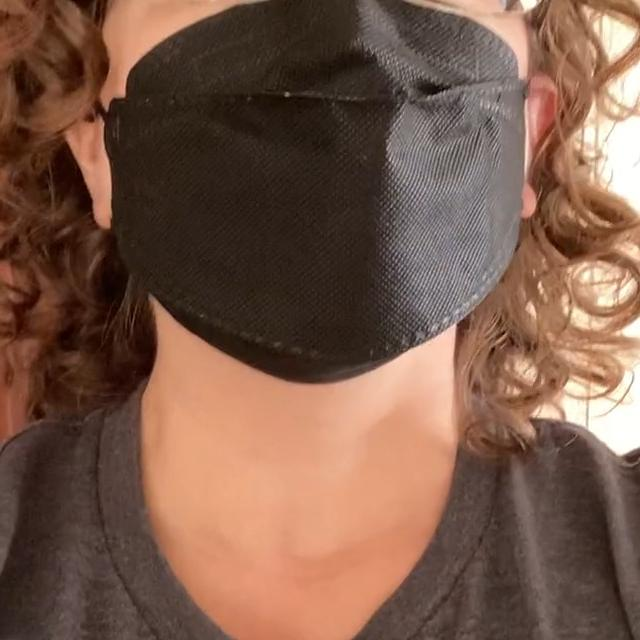Mask: (97, 0, 540, 381)
NO-Safety Vest: (0, 436, 640, 640)
Person: (0, 0, 640, 640)
